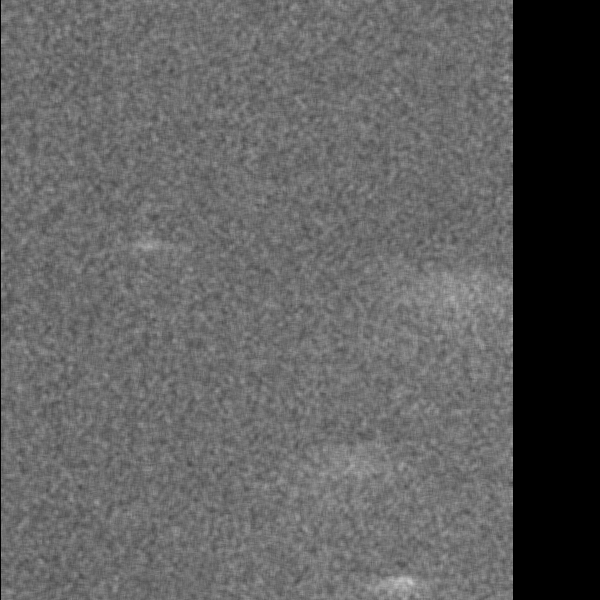spark: (359, 566, 434, 600), (390, 269, 439, 317), (129, 233, 169, 256)
